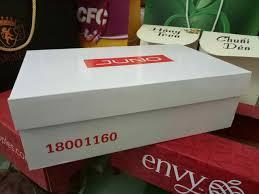box: (7, 45, 253, 171)
